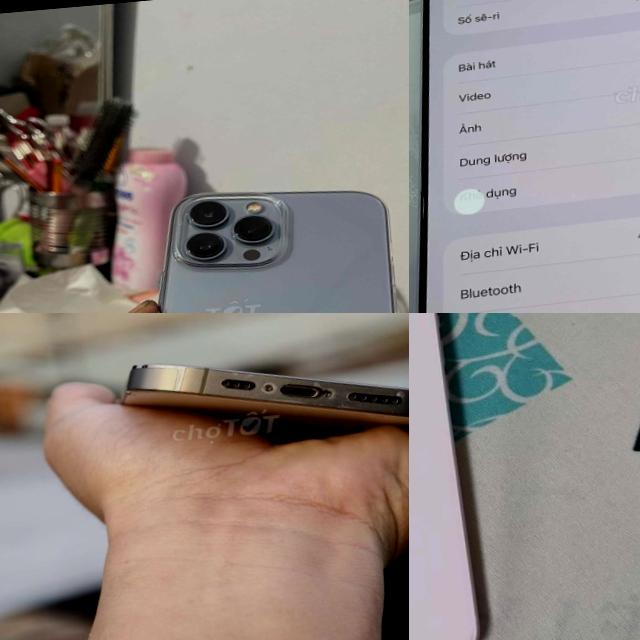physical_damage: (119, 381, 166, 400)
scratch: (307, 376, 347, 412), (208, 362, 268, 386), (254, 376, 276, 395), (388, 389, 407, 403)
